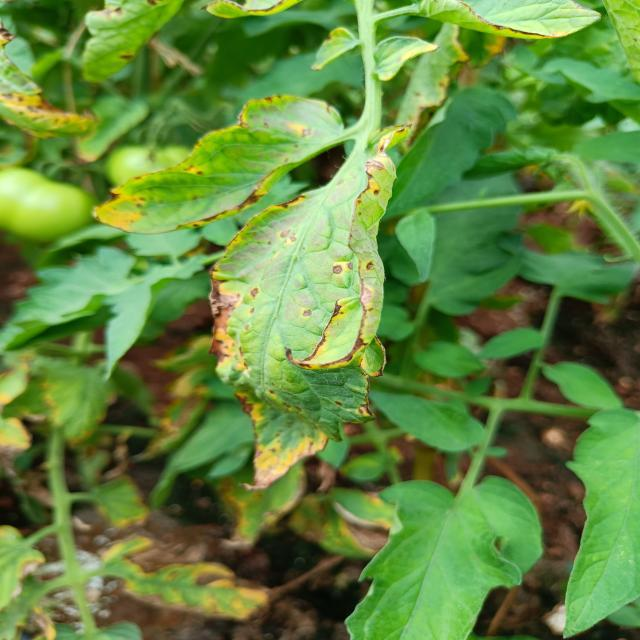Tomato mosaic virus leaf: (194, 120, 410, 492), (83, 92, 344, 239)
